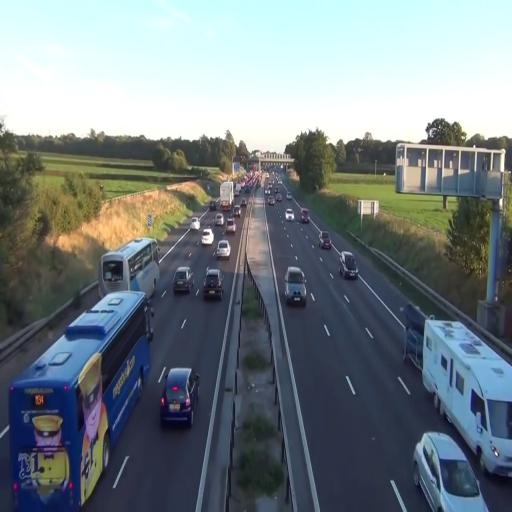vehicle: (7, 288, 152, 507), (421, 315, 512, 481), (421, 315, 512, 478), (412, 431, 489, 512), (100, 238, 160, 300), (160, 365, 198, 428), (285, 266, 307, 306), (202, 265, 224, 302), (173, 266, 193, 296), (340, 251, 358, 279), (219, 180, 234, 212), (216, 237, 230, 259), (200, 228, 214, 246), (188, 216, 201, 232), (320, 232, 331, 250), (285, 208, 295, 222), (300, 209, 310, 223)
